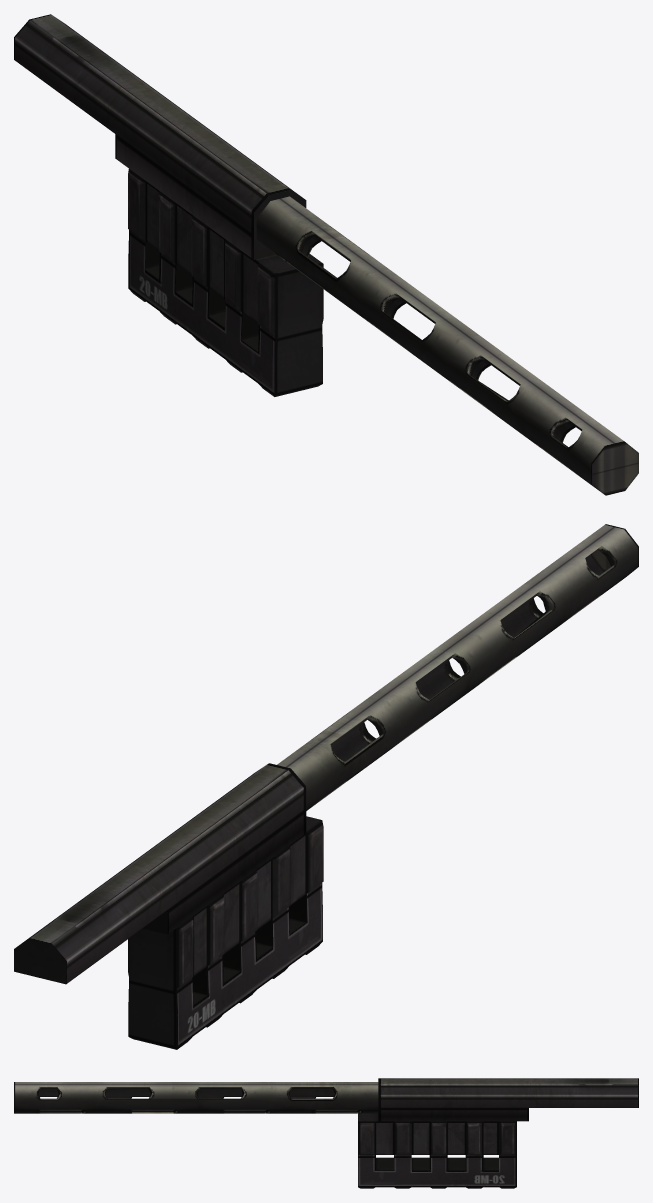
Rendered from SniperRifle_Warfare_Barrel_2.FBX.
3 renders of one model, top to bottom at view 1: azimuth 30°, elevation 25°; view 2: azimuth 150°, elevation 25°; view 3: azimuth 270°, elevation 25°, orthographic. The views are drawn at different scales.
Parts seen in each view (by area): view 1: mesh_barrel; view 2: mesh_barrel; view 3: mesh_barrel.
Part boxes in pixels (x1,y1,x2,y2): mesh_barrel: (14,14,638,495); mesh_barrel: (14,524,638,1049); mesh_barrel: (14,1078,638,1188).
Bounding box in the file's own units: 0.0363 × 0.12 × 0.668.
